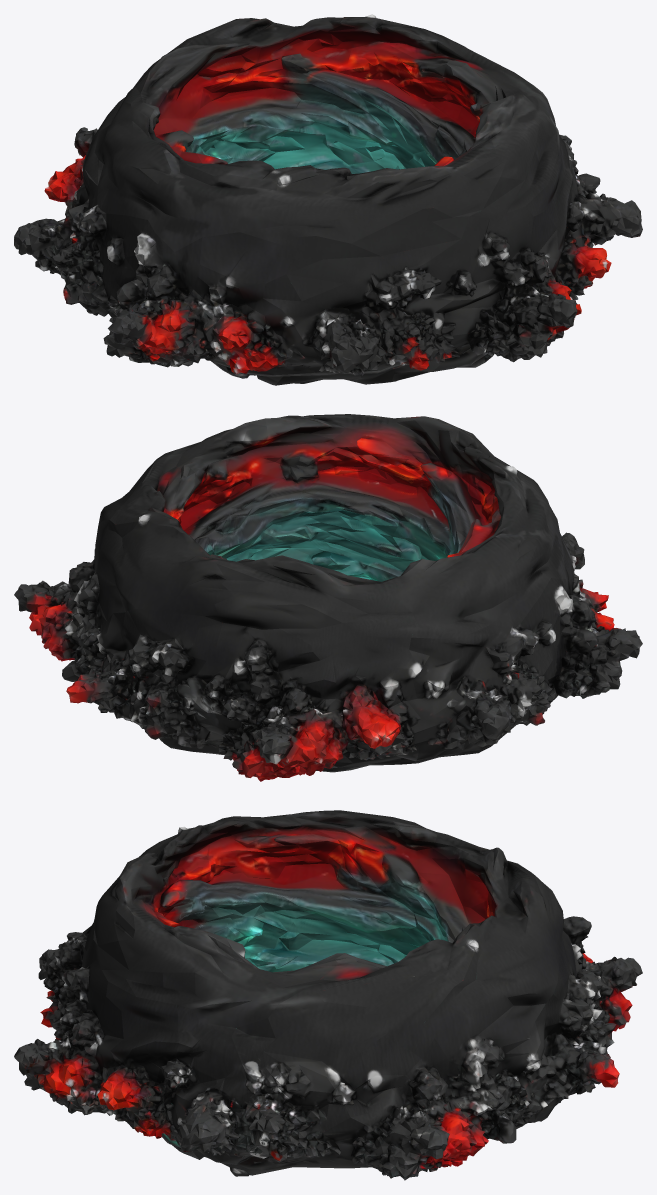
The model's file is Meshy_AI_SciFi_Portal_25k_20261105_texture_remesh_tri.fbx.
3 renders of one model, top to bottom at view 1: azimuth 30°, elevation 25°; view 2: azimuth 150°, elevation 25°; view 3: azimuth 270°, elevation 25°, orthographic. The views are drawn at different scales.
Parts seen in each view (by area): view 1: output_unwrapped; view 2: output_unwrapped; view 3: output_unwrapped.
Part boxes in pixels (x1,y1,x2,y2): output_unwrapped: (14, 14, 642, 385); output_unwrapped: (14, 414, 642, 781); output_unwrapped: (14, 810, 642, 1180).
Bounding box in the file's own units: 189 × 75.99 × 190.
1 material, 1 textured.
